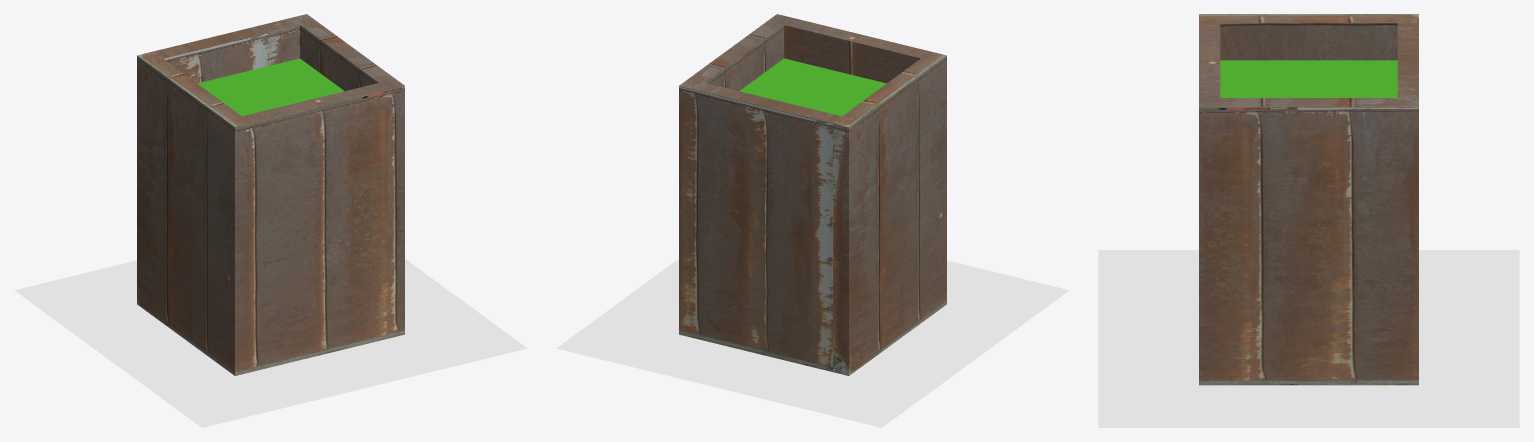
The model's file is squarebarrel.dae.
3 renders of one model, left to right at view 1: azimuth 30°, elevation 25°; view 2: azimuth 150°, elevation 25°; view 3: azimuth 270°, elevation 25°, orthographic. The views are drawn at different scales.
Visible parts, largest first — view 1: wall24 (×3), group_0; view 2: wall24 (×3), group_0; view 3: wall24 (×3), group_0.
Boxes of the visible parts, x1,y1,x2,y2 form: wall24 (×3): (137, 14, 404, 375); group_0: (14, 259, 527, 427); wall24 (×3): (679, 14, 946, 375); group_0: (556, 259, 1069, 427); wall24 (×3): (1199, 14, 1418, 385); group_0: (1098, 250, 1519, 427).
Bounding box in the file's own units: 39.37 × 39.37 × 28.73.
3 materials, 1 textured.
